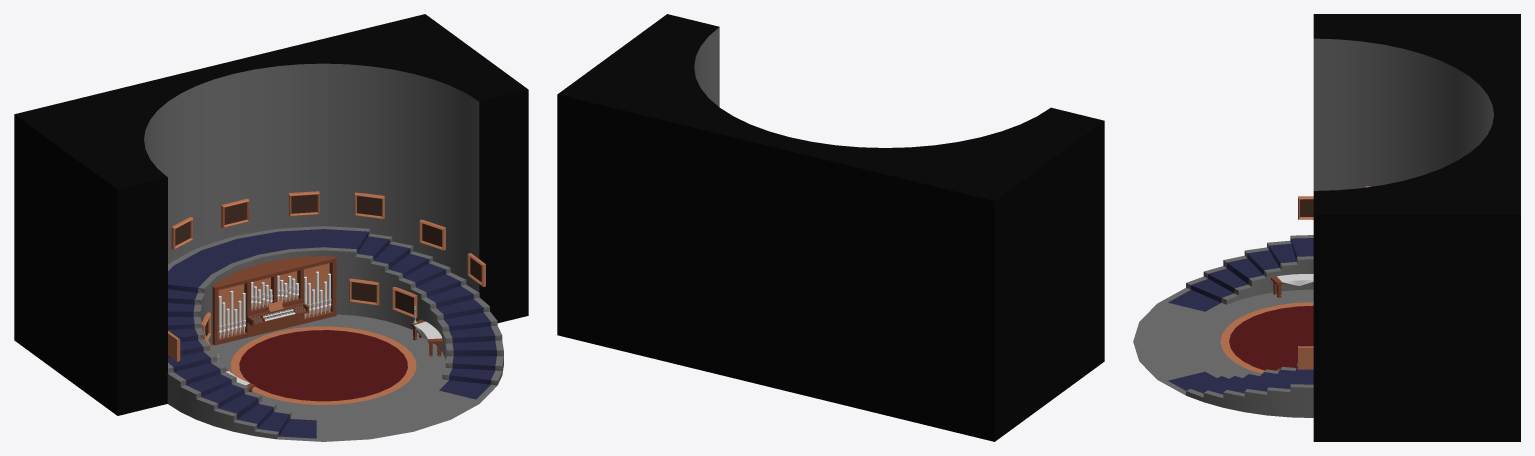
The model's file is Dest_Hall_Field.FBX.
3 views of the same model, side by side, from view 1: azimuth 30°, elevation 25°; view 2: azimuth 150°, elevation 25°; view 3: azimuth 270°, elevation 25° (orthographic). The views are drawn at different scales.
Parts seen in each view (by area): view 1: Cylinder001; view 2: Cylinder001; view 3: Cylinder001.
Part boxes in pixels (x1,y1,x2,y2): Cylinder001: (14, 14, 528, 441); Cylinder001: (557, 14, 1104, 441); Cylinder001: (1133, 14, 1520, 441).
Size of the model in its own units: 343 by 181 by 280.
